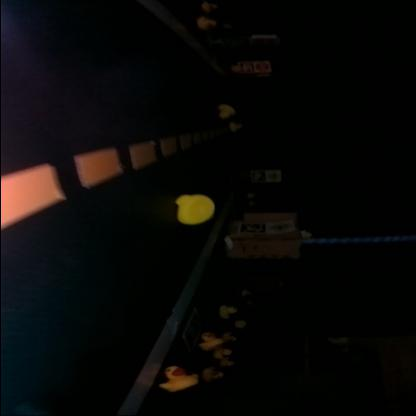Duckie: (176, 193, 214, 224), (160, 366, 198, 390), (200, 332, 222, 350), (200, 16, 216, 30), (221, 102, 235, 116), (219, 305, 235, 317), (214, 349, 231, 357), (229, 121, 242, 130), (224, 332, 235, 342), (220, 358, 233, 366), (244, 290, 252, 296), (238, 321, 246, 326)
Intersection sign: (270, 220, 290, 232), (268, 170, 280, 180)
QR code: (182, 307, 202, 351), (242, 223, 266, 232), (251, 170, 266, 182), (239, 62, 254, 71)
